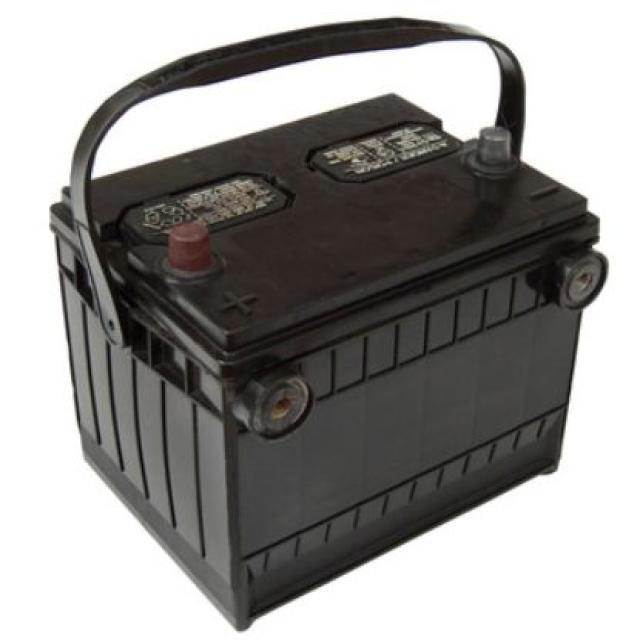electronic: (29, 21, 640, 639)
